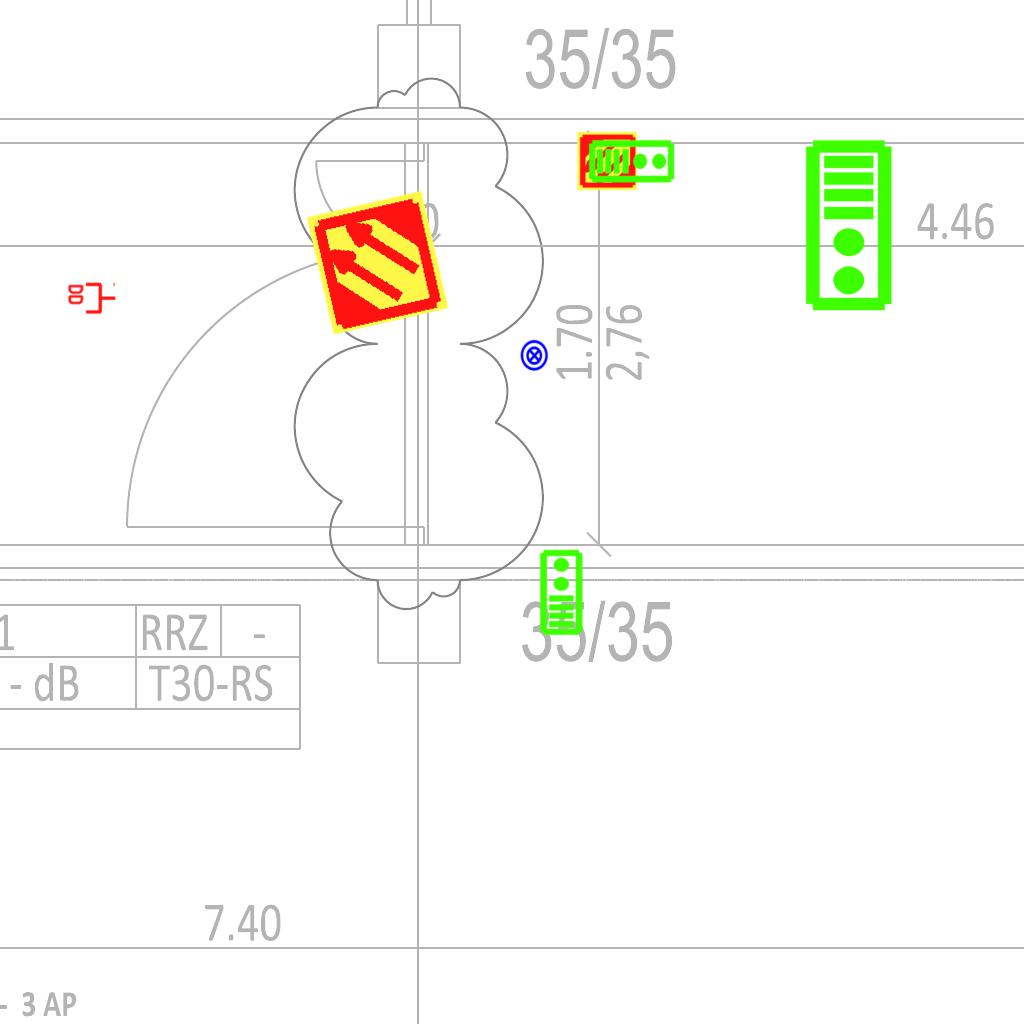ASR_Ansaugrauchmelder: (302, 187, 453, 338), (576, 130, 638, 192)
Datenanschluss_zweifach: (66, 282, 117, 316)
Gegensprechanlage_mit_Video: (803, 138, 898, 314), (537, 548, 584, 636), (588, 137, 676, 184)
Taster_beleuchtet: (518, 339, 551, 372)
